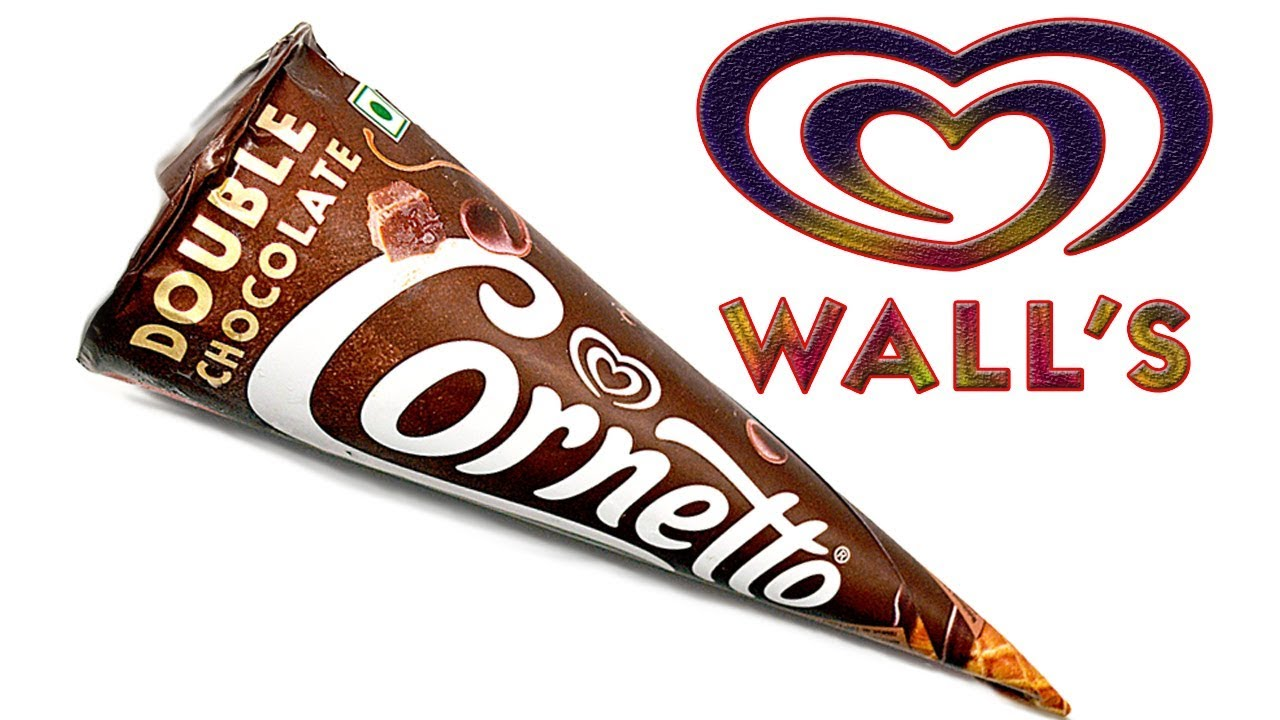Kwality_Walls: (682, 2, 1235, 289), (563, 314, 675, 425)
